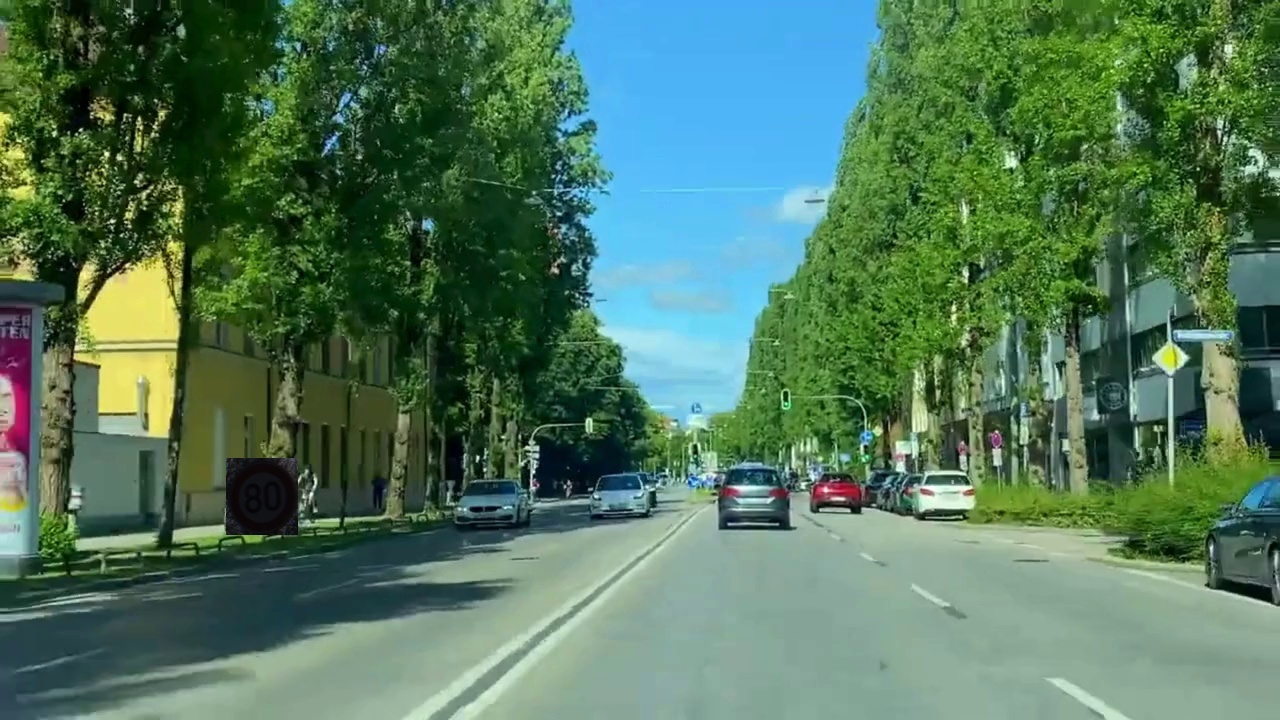Speed 80: (226, 458, 298, 535)
